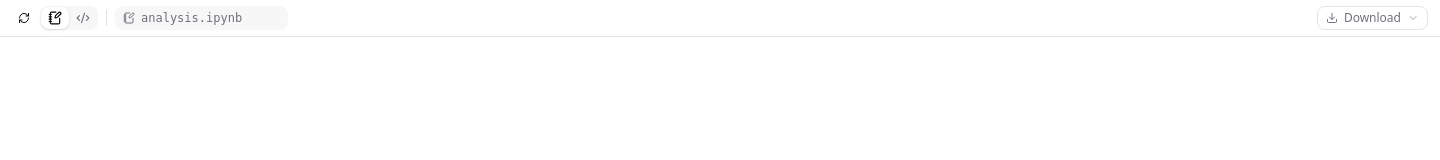
it: PreviewToolbar notebook downloads › shows notebook and report PDF download actions
The width and height of the screenshot is (1440, 160).
Click the button "Download".
click(1372, 18)  # box [1317, 6, 1428, 30]
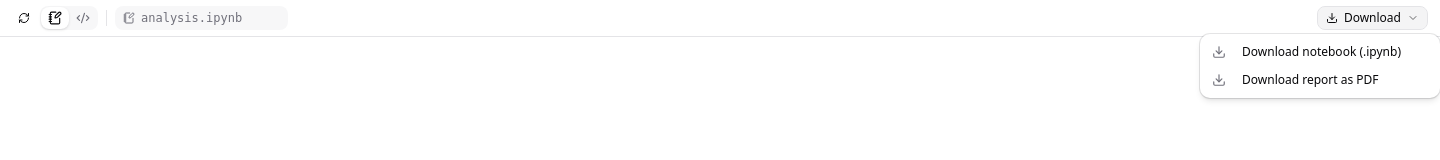
Now the menu item "Download notebook (.ipynb)" is shown, box [1212, 43, 1401, 60]
Now the menu item "Download report as PDF" is shown, box [1212, 71, 1379, 88]
